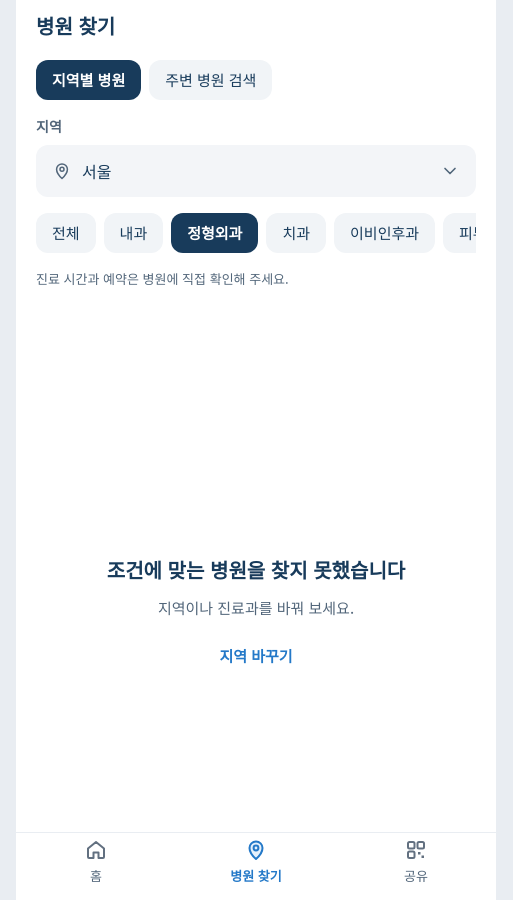
Test case: 검색을 취소하면 늦게 도착한 위치로 검색하지 않는다
Expected: the text "조건에 맞는 병원을 찾지 못했습니다" is shown, [107, 556, 405, 584]
Step 1. Click the radio button labelled "주변 병원 검색" → [211, 80], box [149, 60, 272, 100]
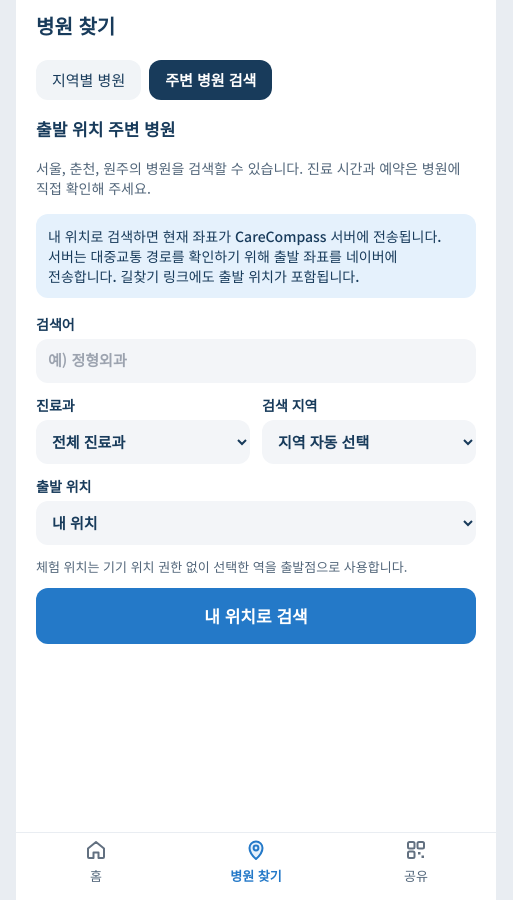
Step 2. Type "정형외과" into the search field labelled "검색어" → [256, 360], box [36, 338, 476, 382]
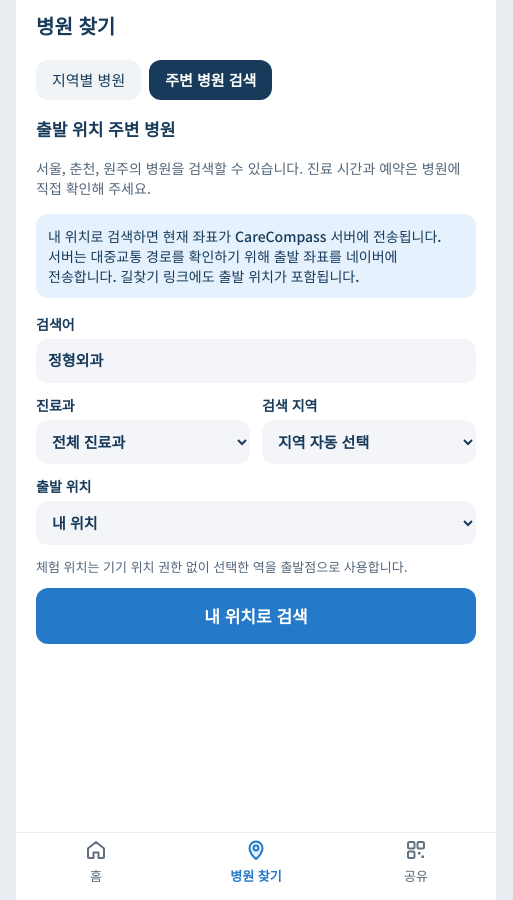
Step 3. Click the button "내 위치로 검색" → [256, 616], box [36, 588, 476, 644]
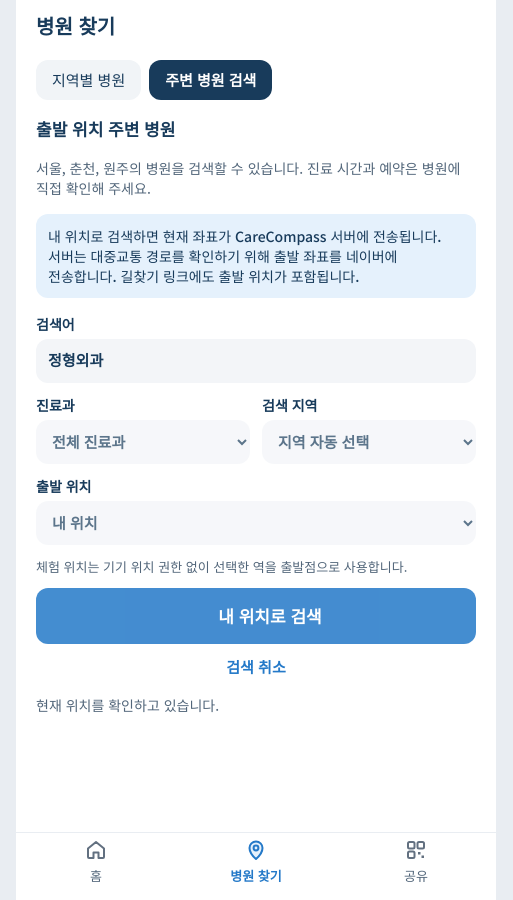
Expected: the text "현재 위치를 확인하고 있습니다." is shown, [36, 694, 219, 714]
Step 4. Click the button "검색 취소" → [256, 667], box [36, 656, 476, 678]
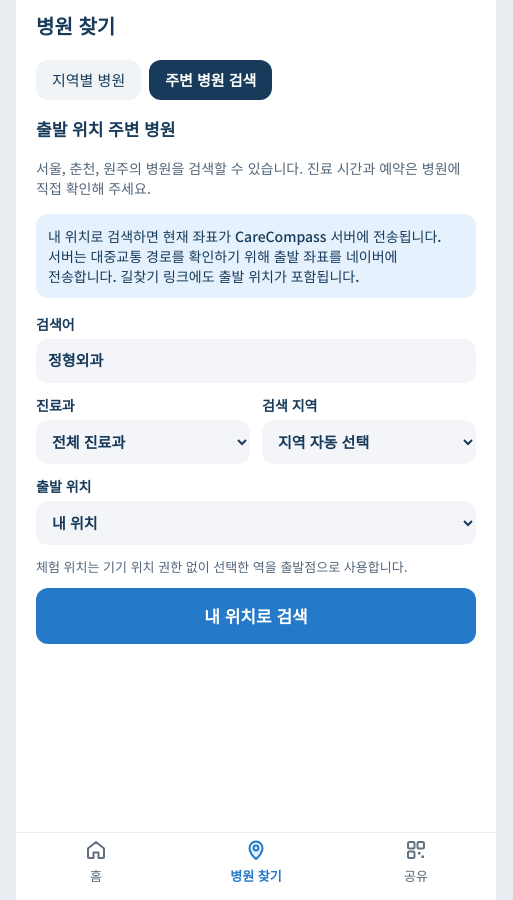
Expected: the message "현재 위치를 확인하고 있습니다." is gone
